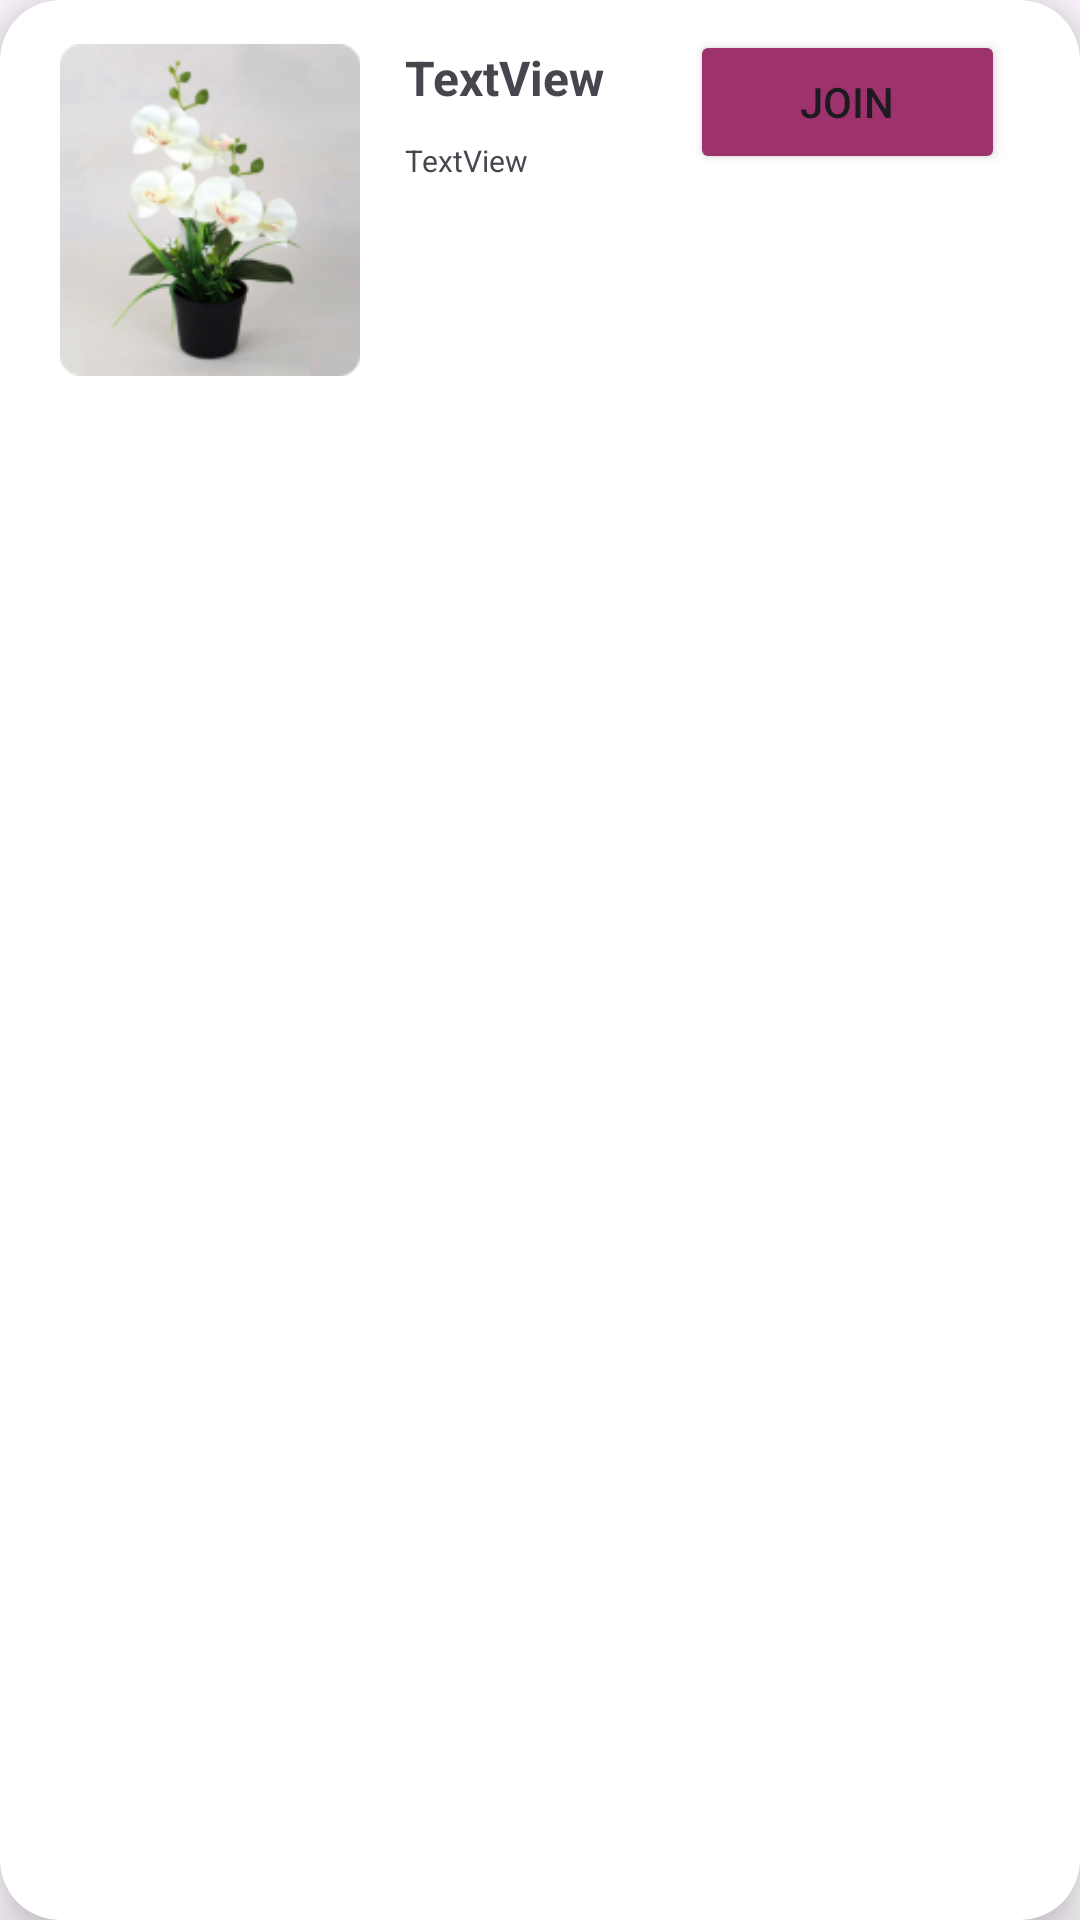

Screen size 1080px x 1920px. Icon name, then its box in pixels as (x1, y1, x2, y2):
anngrek: (60, 44, 360, 376)
